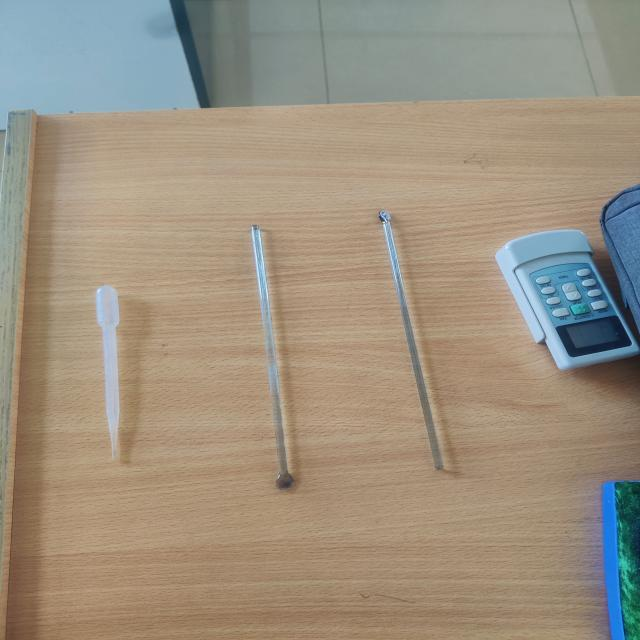Glass_Rod: (344, 178, 481, 492), (226, 204, 328, 505)
Pipette: (69, 253, 169, 485)
